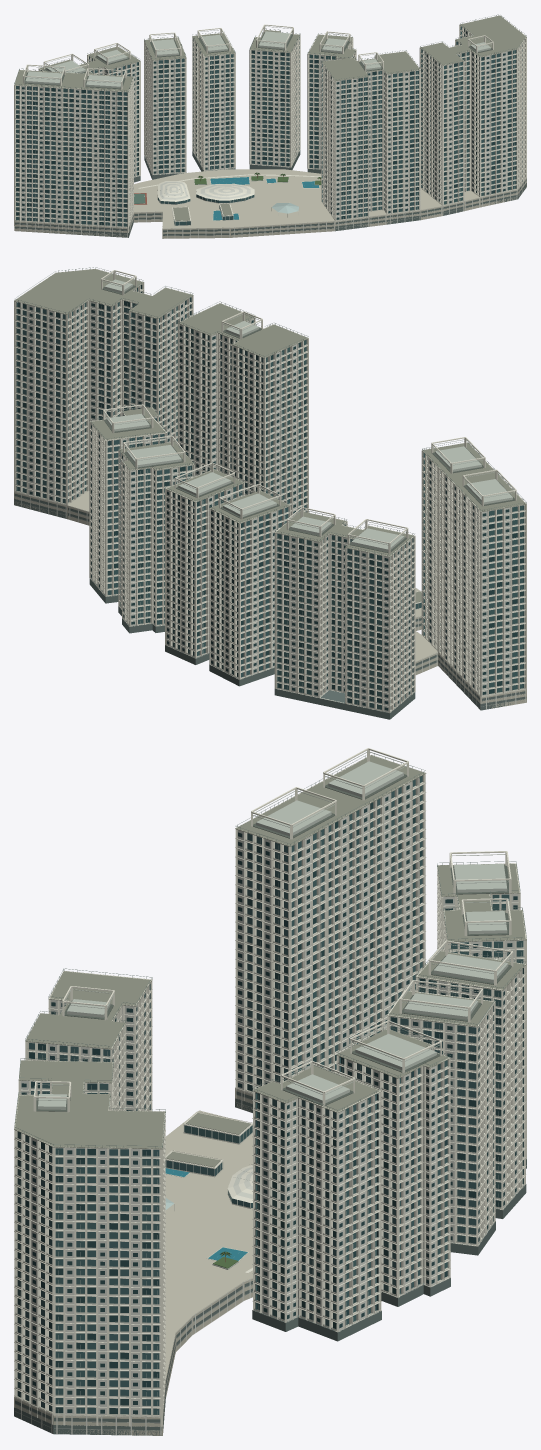
Rendered from Metropolitan-Square.glb.
3 renders of one model, top to bottom at view 1: azimuth 30°, elevation 25°; view 2: azimuth 150°, elevation 25°; view 3: azimuth 270°, elevation 25°, orthographic. The views are drawn at different scales.
Parts seen in each view (by area): view 1: Pale residential facade ribs (×8), Metropolitan Square shared podium mapped building volume, Shallow oval clubhouse roof (×3), Reviewed MSQ pool deck and entrance pavilion; view 2: Pale residential facade ribs (×8), Metropolitan Square shared podium mapped building volume; view 3: Pale residential facade ribs (×8), Metropolitan Square shared podium mapped building volume, Shallow oval clubhouse roof (×3), Reviewed MSQ pool deck and entrance pavilion.
Boxes of the visible parts, x1,y1,x2,y2 form: Pale residential facade ribs (×8): (14, 14, 526, 237); Metropolitan Square shared podium mapped building volume: (14, 169, 526, 238); Shallow oval clubhouse roof (×3): (157, 181, 254, 225); Reviewed MSQ pool deck and entrance pavilion: (134, 172, 321, 220); Pale residential facade ribs (×8): (14, 267, 526, 719); Metropolitan Square shared podium mapped building volume: (14, 490, 526, 709); Pale residential facade ribs (×8): (14, 748, 526, 1435); Metropolitan Square shared podium mapped building volume: (14, 1087, 252, 1435); Shallow oval clubhouse roof (×3): (165, 1111, 252, 1208); Reviewed MSQ pool deck and entrance pavilion: (165, 1168, 252, 1273).
Size of the model in its own units: 353 by 123 by 190.
